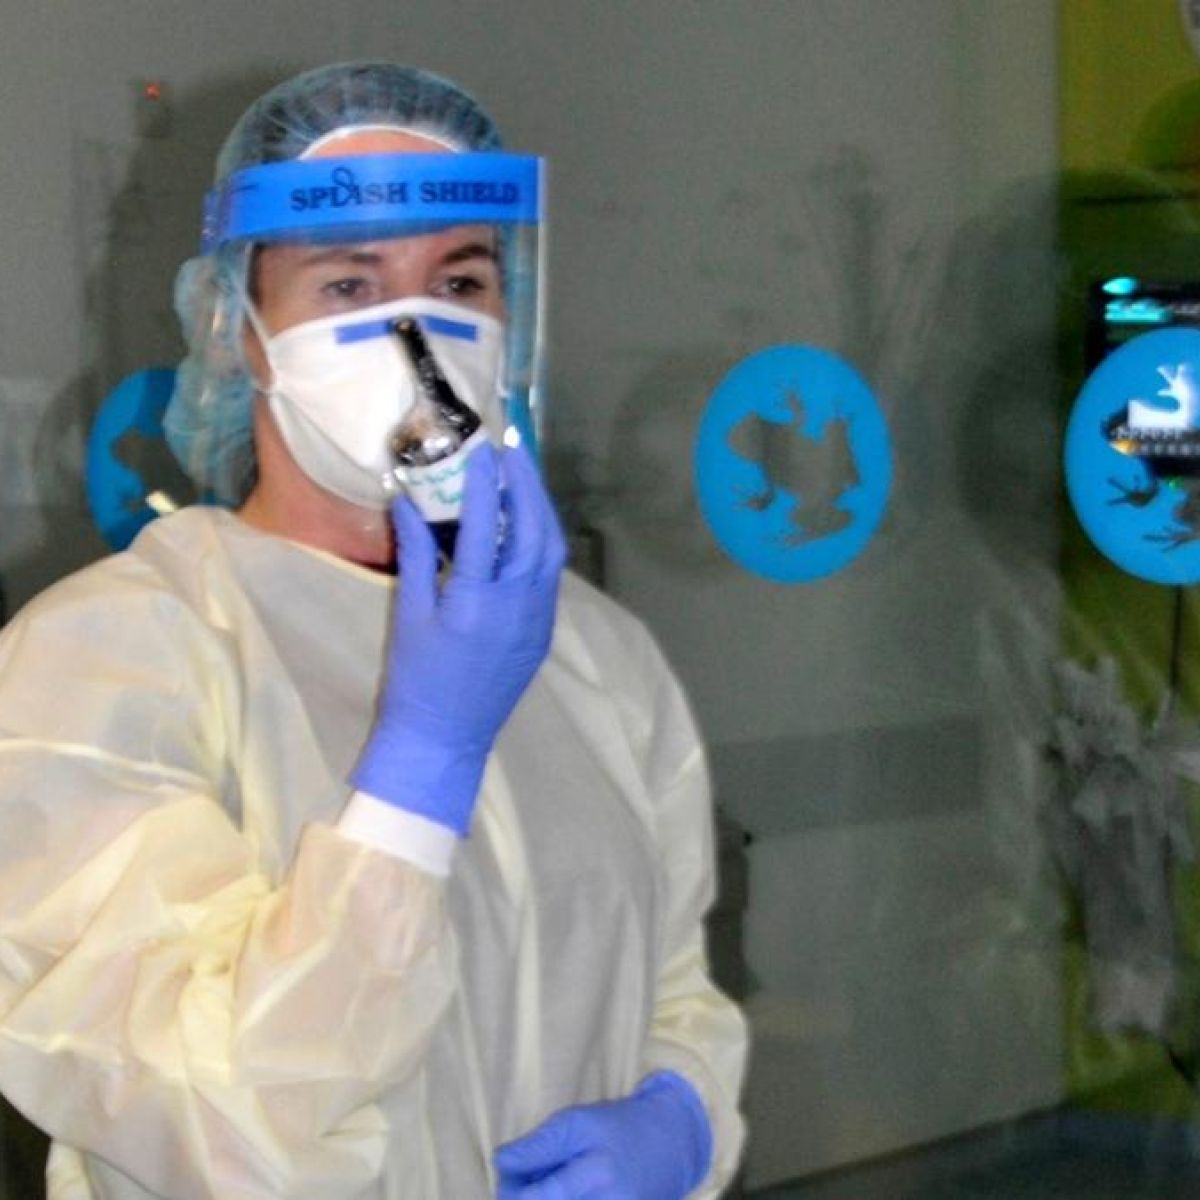glove: (371, 433, 573, 732), (487, 1078, 704, 1200)
